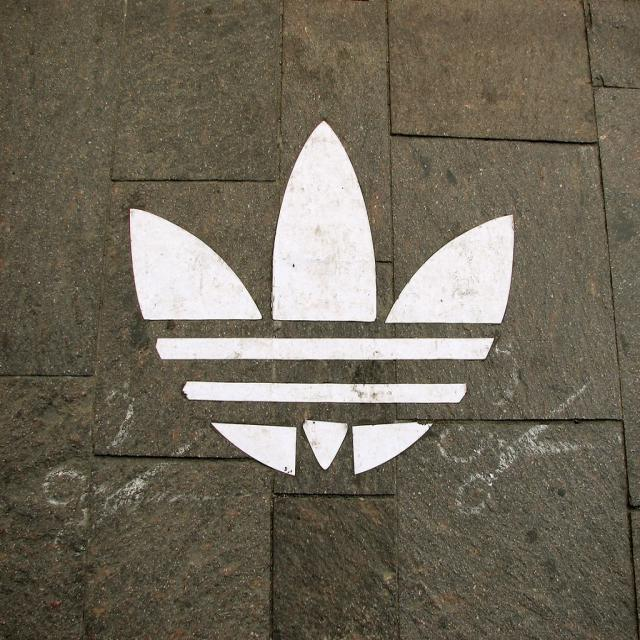adidas: (120, 113, 520, 488)
